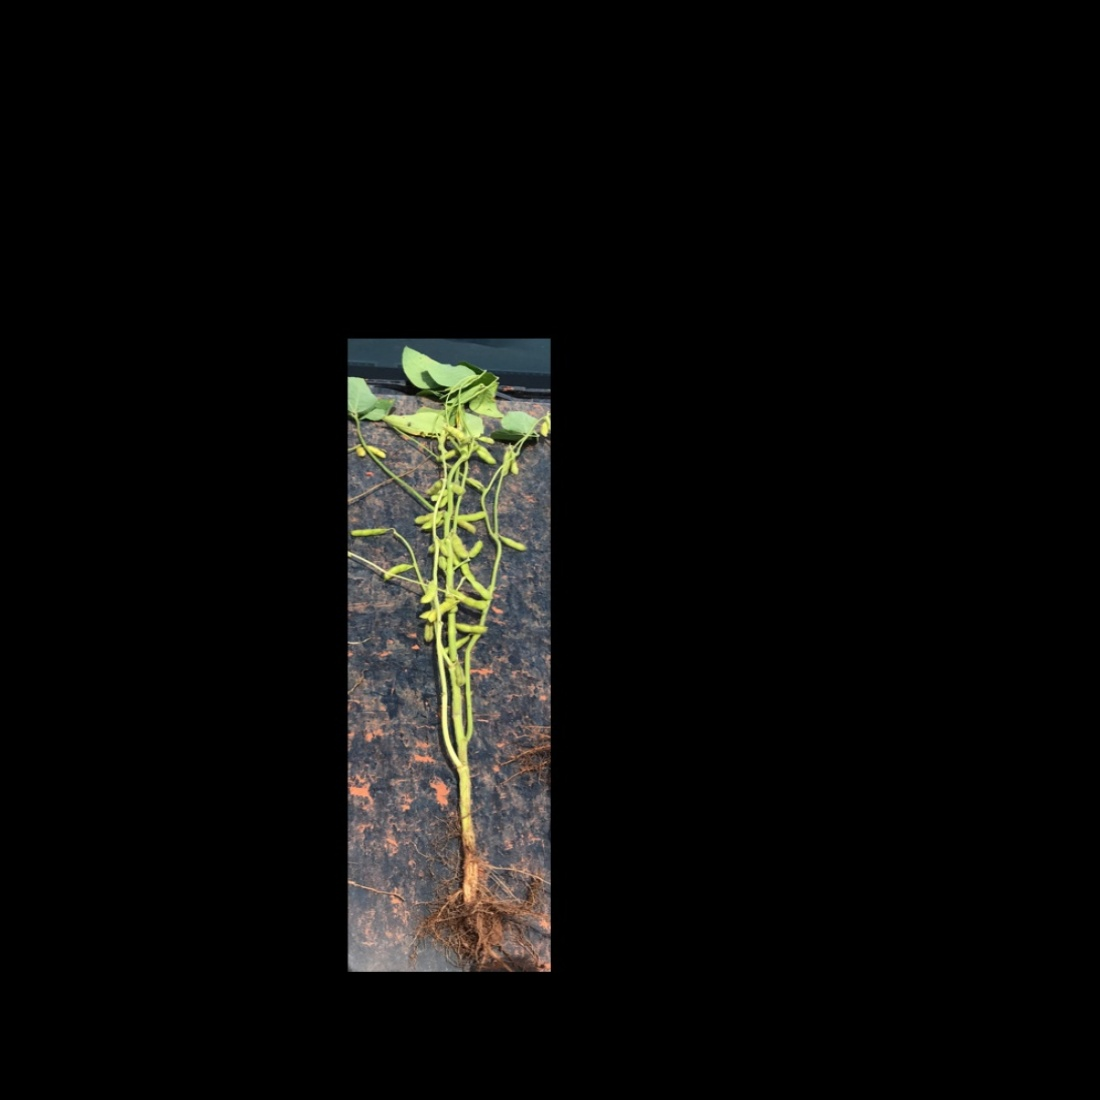pod: (380, 561, 415, 580), (499, 533, 529, 553), (349, 525, 392, 538), (458, 557, 476, 584), (471, 446, 498, 464), (451, 622, 490, 634), (452, 510, 486, 523), (466, 539, 484, 561), (367, 444, 390, 459)
soy: (351, 341, 549, 952)
